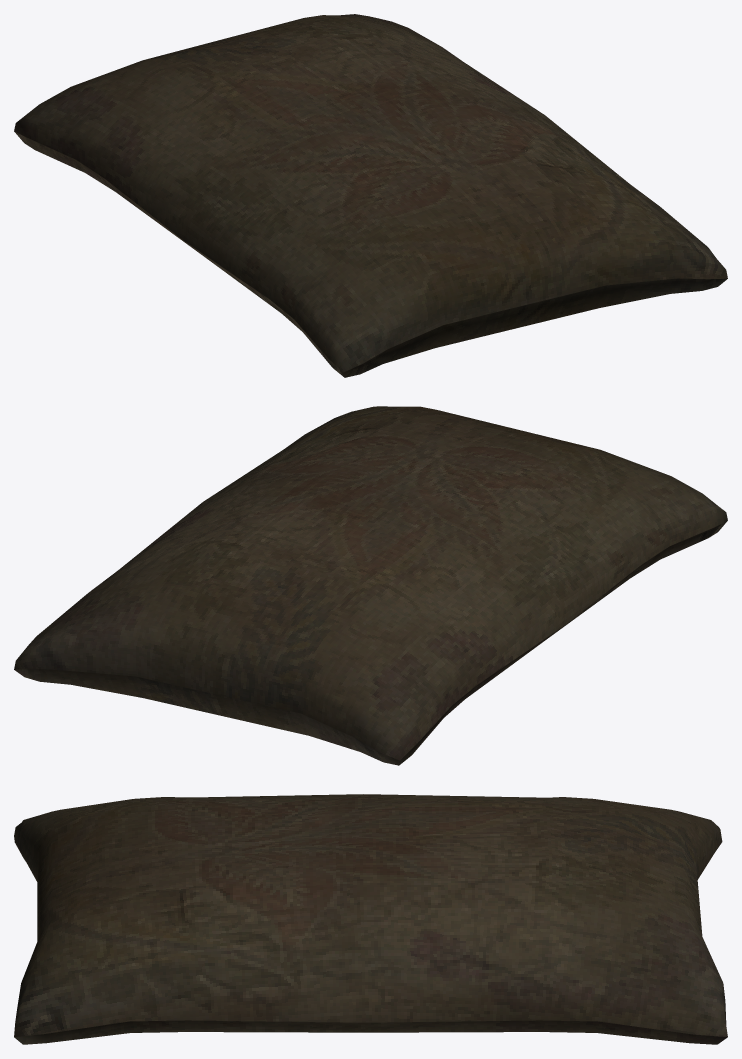
The model's file is pillow_mp_1.glb.
The picture shows the model from 3 angles, top to bottom: view 1: azimuth 30°, elevation 25°; view 2: azimuth 150°, elevation 25°; view 3: azimuth 270°, elevation 25°; orthographic projection. The views are drawn at different scales.
Visible parts, largest first — view 1: pillow_mp_1; view 2: pillow_mp_1; view 3: pillow_mp_1.
Boxes of the visible parts, x1,y1,x2,y2 form: pillow_mp_1: (14,14,727,377); pillow_mp_1: (14,406,727,765); pillow_mp_1: (14,794,727,1044).
Size of the model in its own units: 0.5481 by 0.1624 by 0.814.
Materials: 1 (1 with a texture image).
